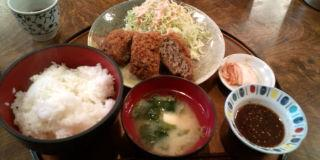rice: (11, 62, 114, 138)
